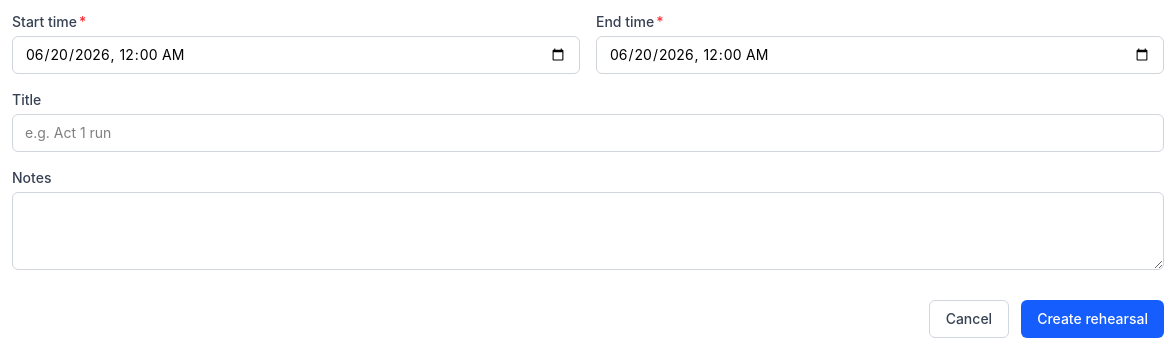
Test: RehearsalForm — default block length › sets end time to start time plus the block length, without the break, when start time loses focus
The width and height of the screenshot is (1176, 355).
Replace the text in the field below "Start time" with "2026-06-20T19:00" at (296, 55), box [12,36,580,74]
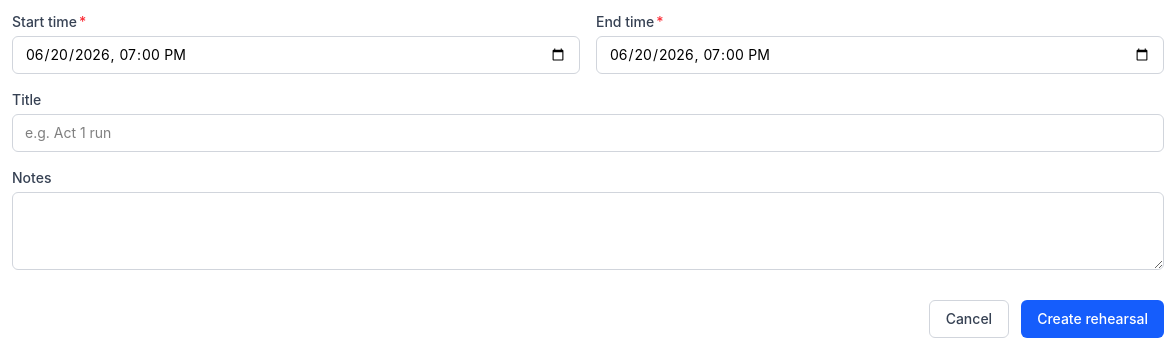
Leave the field below "Start time", box [12,36,580,74]
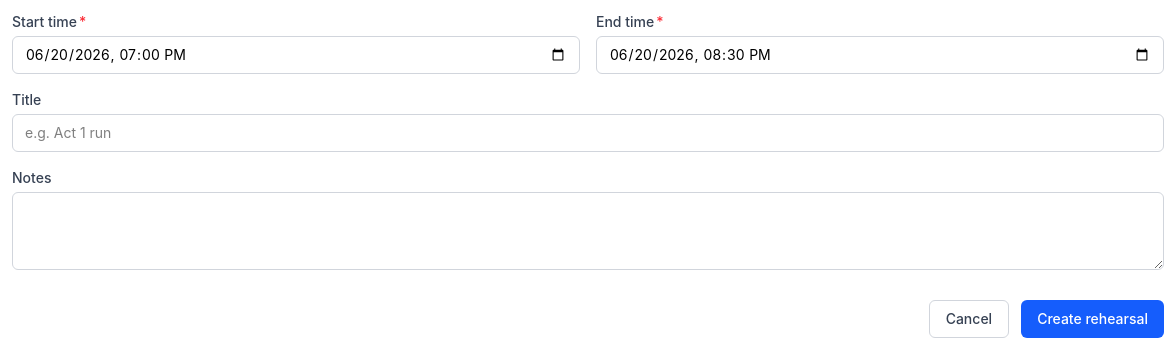
Expected: the field below "End time" holds "2026-06-20T20:30", [596,36,1164,74]
